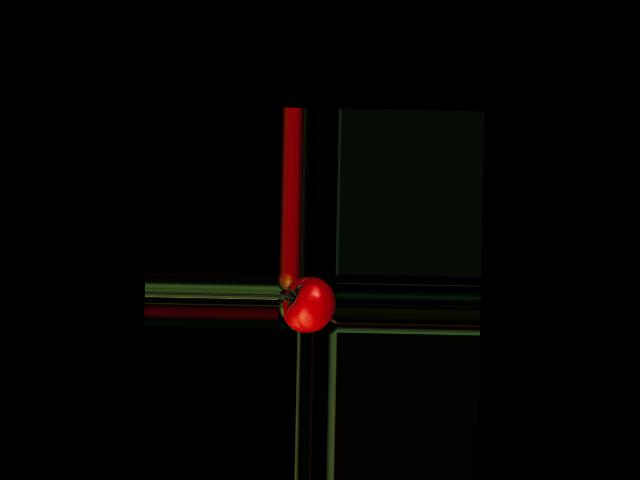tomato: (282, 277, 336, 333)
